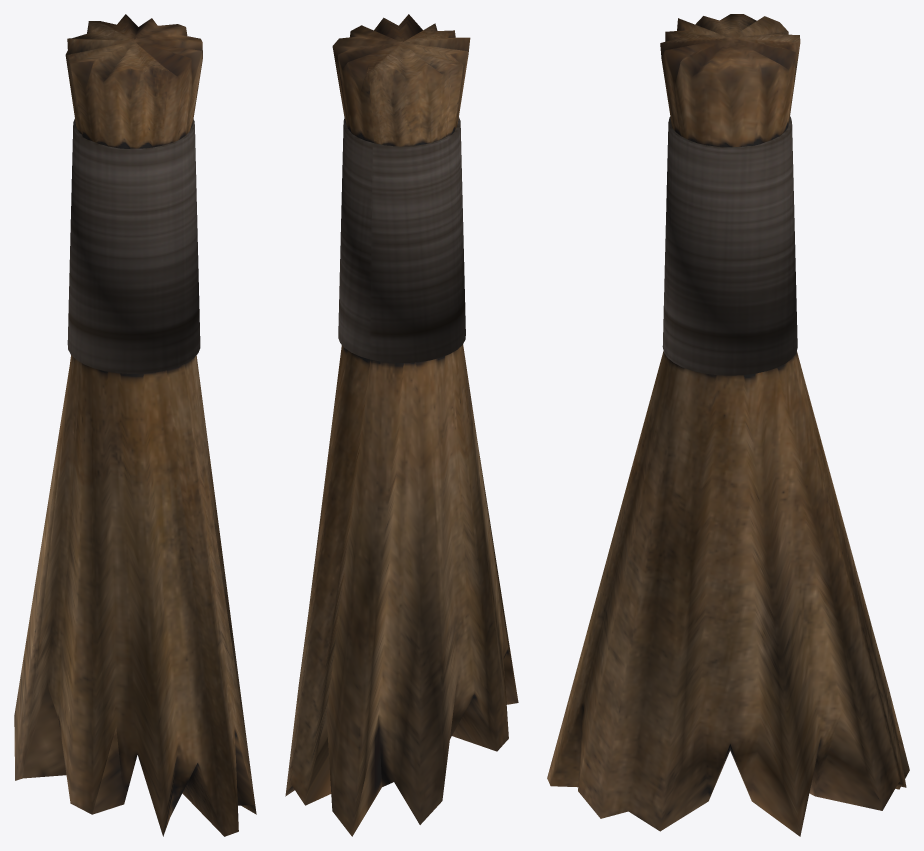
File: BroomShort.fbx
3 views of the same model, side by side, from view 1: azimuth 30°, elevation 25°; view 2: azimuth 150°, elevation 25°; view 3: azimuth 270°, elevation 25° (orthographic). The views are drawn at different scales.
Parts seen in each view (by area): view 1: BroomShort; view 2: BroomShort; view 3: BroomShort.
Part boxes in pixels (x1,y1,x2,y2): BroomShort: [14, 14, 256, 836]; BroomShort: [285, 14, 518, 836]; BroomShort: [547, 14, 909, 836].
Bounding box in the file's own units: 0.089 × 0.4095 × 0.1747.
